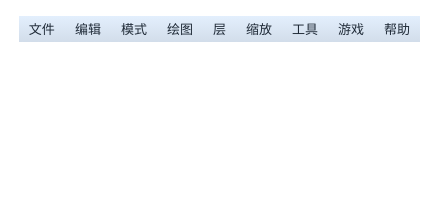
Test: Menu › 打开对话框的项标签带"..."后缀
This screenshot has width=437, height=209.
Click the button with class "menu-dropdown-title" showing "文件" at coordinates (42, 29), box [19, 16, 65, 42]
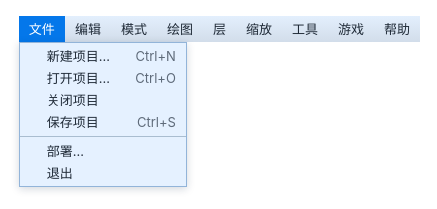
Expected: the element with class "menu-entry" does not show "..."
Result: the menu item with class "menu-entry" shows "新建项目..." at [47, 48, 176, 64]
